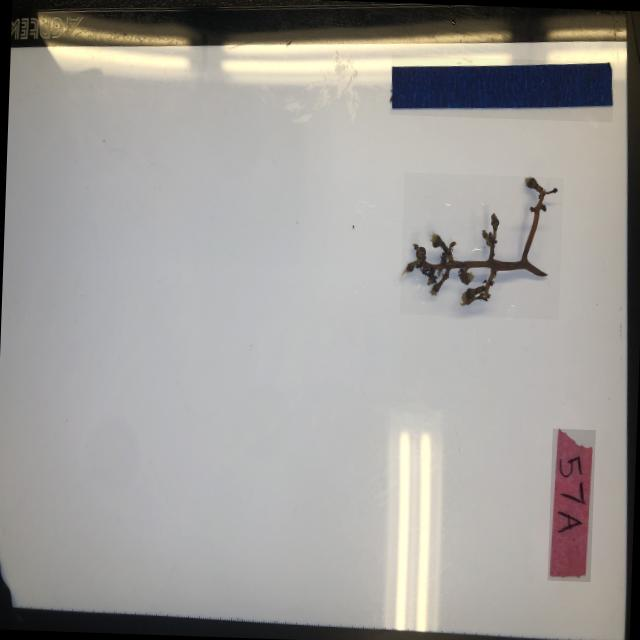index: (546, 428, 594, 582)
measure_label: (388, 54, 613, 122)
rachis_cluster: (398, 172, 562, 320)
